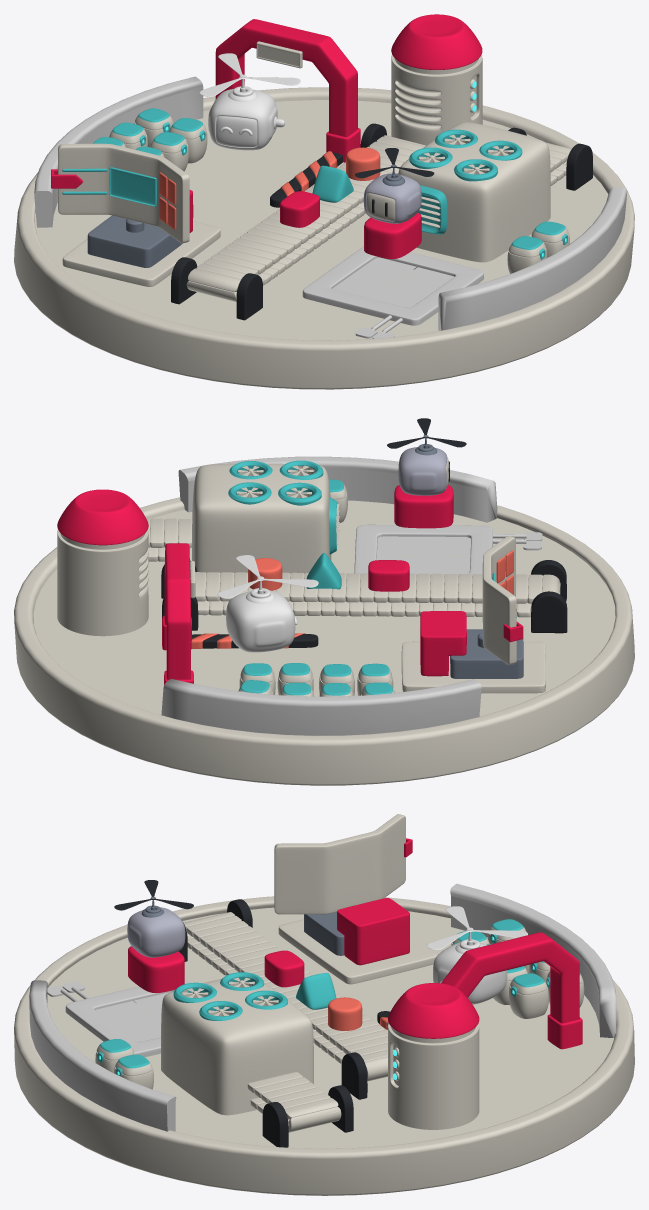
File: bots.glb
3 renders of one model, top to bottom at view 1: azimuth 30°, elevation 25°; view 2: azimuth 150°, elevation 25°; view 3: azimuth 270°, elevation 25°, orthographic.
Visible parts, largest first — view 1: Platform, ProductionLine, MetallicObjects, Computer, FloorItems, Boxes, Main_Bot, HoloBot, HoloBlade; view 2: Platform, ProductionLine, MetallicObjects, Computer, FloorItems, Boxes, Main_Bot, HoloBot, HoloBlade, Main_Bot_Blade; view 3: Platform, ProductionLine, Computer, MetallicObjects, FloorItems, Boxes, Main_Bot, HoloBot, HoloBlade.
Boxes of the visible parts, x1,y1,x2,y2 form: Platform: (14,87,634,389); ProductionLine: (171,14,592,320); MetallicObjects: (34,76,627,338); Computer: (51,143,220,286); FloorItems: (215,19,360,207); Boxes: (93,108,569,273); Main_Bot: (363,164,421,259); HoloBot: (208,74,284,150); HoloBlade: (199,53,300,96); Platform: (14,497,634,785); ProductionLine: (57,460,567,636); MetallicObjects: (161,456,542,735); Computer: (401,536,545,693); FloorItems: (162,543,318,684); Boxes: (238,479,394,696); Main_Bot: (394,435,453,528); HoloBot: (226,576,297,652); HoloBlade: (217,555,318,598); Main_Bot_Blade: (387,418,466,448); Platform: (14,896,634,1195); ProductionLine: (161,899,479,1147); Computer: (274,814,437,984); MetallicObjects: (29,883,616,1131); FloorItems: (377,932,582,1049); Boxes: (95,919,584,1089); Main_Bot: (127,896,185,993); HoloBot: (433,927,507,1004); HoloBlade: (426,906,527,949).
Size of the model in its own units: 8.68 by 2.48 by 8.64.
